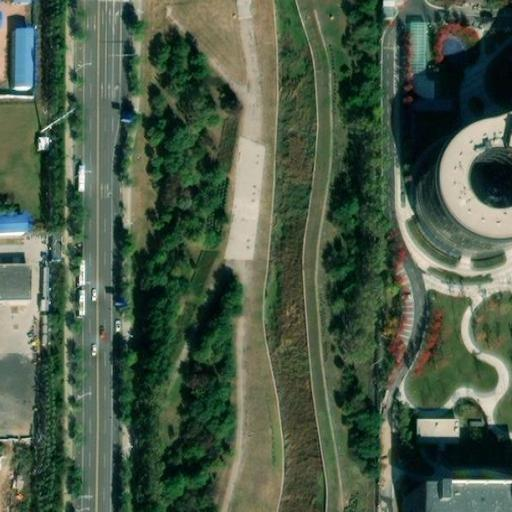building: (419, 111, 512, 258), (415, 489, 512, 512), (15, 27, 35, 87), (0, 262, 31, 300), (417, 418, 458, 440), (39, 260, 55, 308), (0, 212, 25, 231)
